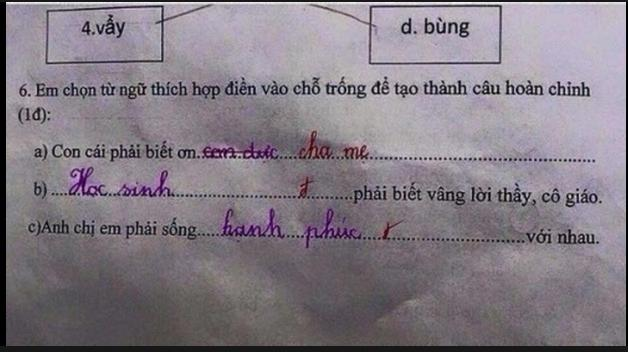text: (17, 73, 592, 101), (31, 128, 371, 164), (352, 179, 603, 207), (219, 206, 362, 250), (30, 164, 174, 203), (25, 214, 198, 243), (400, 15, 471, 41), (524, 226, 600, 247), (80, 12, 127, 41), (17, 104, 52, 126), (379, 217, 407, 241), (295, 176, 316, 199)
